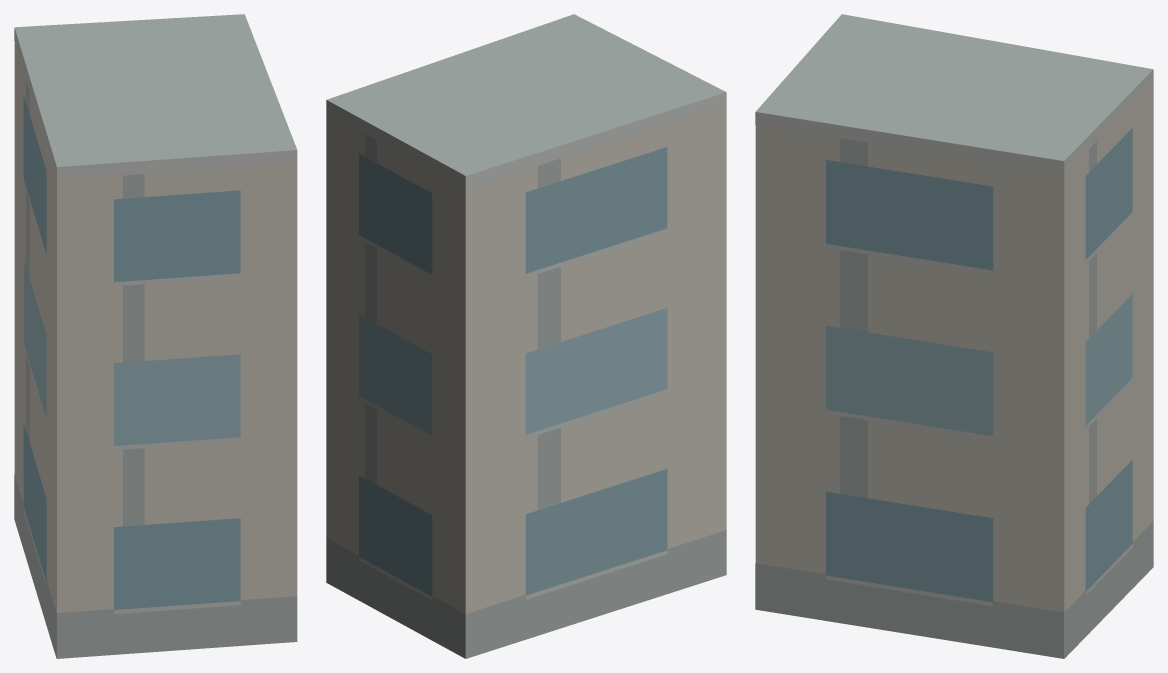
The model's file is survey-upis-33024063.glb.
3 views of the same model, side by side, from view 1: azimuth 30°, elevation 25°; view 2: azimuth 150°, elevation 25°; view 3: azimuth 270°, elevation 25° (orthographic). The views are drawn at different scales.
Parts seen in each view (by area): view 1: survey-upis-33024063.tmp; view 2: survey-upis-33024063.tmp; view 3: survey-upis-33024063.tmp.
Part boxes in pixels (x1,y1,x2,y2): survey-upis-33024063.tmp: [14, 14, 297, 658]; survey-upis-33024063.tmp: [326, 14, 726, 658]; survey-upis-33024063.tmp: [755, 14, 1153, 658].
Bounding box in the file's own units: 5.81 × 9.15 × 6.64.
